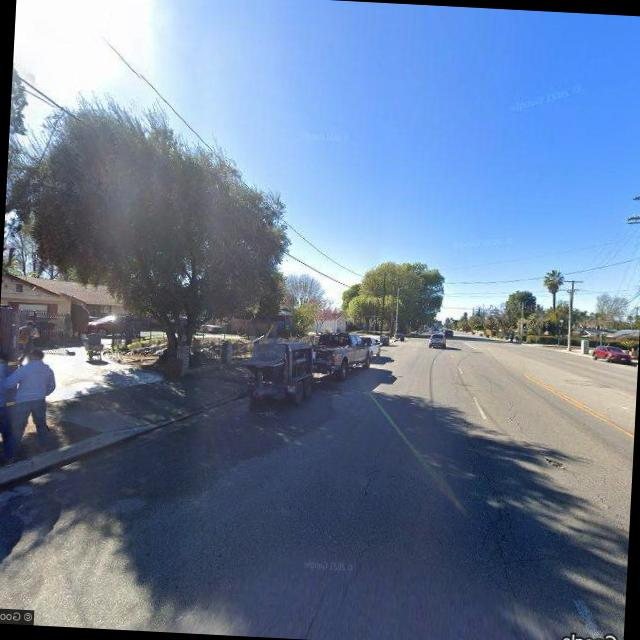crack: (458, 439, 534, 563), (342, 534, 377, 610), (302, 566, 331, 640), (360, 438, 388, 506), (506, 392, 533, 441)
pothole: (544, 454, 570, 469)
